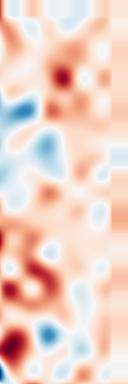filament: (0, 261, 61, 365)
